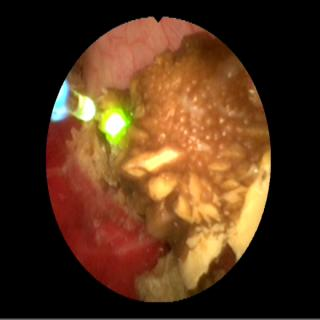fiber: (53, 82, 67, 119)
laser: (100, 108, 129, 144), (76, 95, 95, 121)
stone: (70, 33, 269, 301)
tissue: (50, 123, 163, 294), (84, 20, 188, 94)
